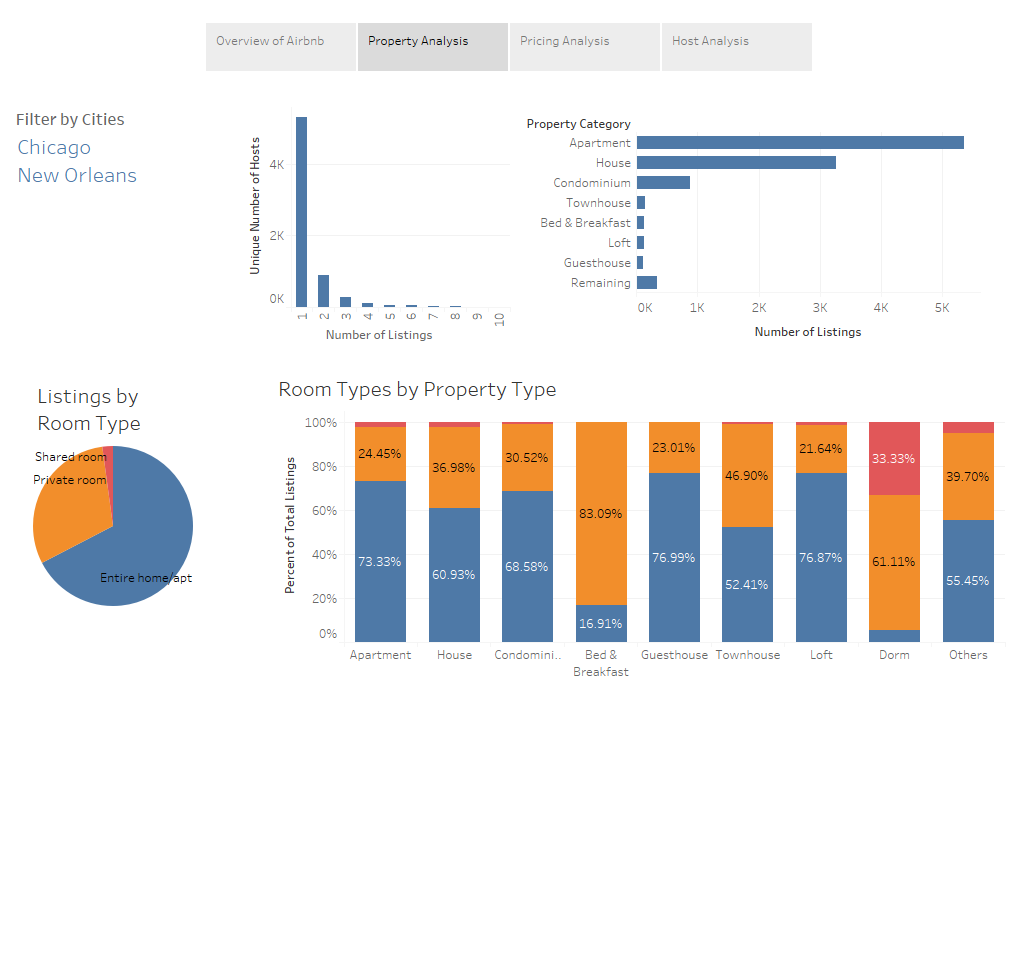

The dashboard page shown, as its layout file describes it:
{"tool":"tableau","page":{"name":"Dashboard 2","canvas":[1000,800],"ordinal":1},"visuals":[{"type":"text","box":[5,6,123,52]},{"type":"worksheet","title":"Sheet 15","mark":"Automatic","rows":["Host ID"],"cols":["Calculated host listings count"],"box":[231,20,271,232]},{"type":"worksheet","title":"Sheet 17","mark":"Automatic","cols":["Calculated host listings count"],"box":[508,25,464,278]},{"type":"worksheet","title":"Sheet 14","mark":"Automatic","box":[1,27,132,112]},{"type":"text","box":[315,234,149,27]},{"type":"worksheet","title":"Sheet 18","mark":"Automatic","box":[266,281,731,314]},{"type":"worksheet","title":"Sheet 16","mark":"Pie","box":[25,288,211,259]}]}

Visuals, with their boxes on the page's 1000x800 design canvas (x1, y1, x2, y2). These are canvas units, not pixel positions in the 1016x964 screenshot, which may show the page scaled, cropped or inside an application window:
text: 5,6,128,58
"Sheet 15" worksheet: 231,20,502,252
"Sheet 17" worksheet: 508,25,972,303
"Sheet 14" worksheet: 1,27,133,139
text: 315,234,464,261
"Sheet 18" worksheet: 266,281,997,595
"Sheet 16" worksheet (Pie marks): 25,288,236,547
